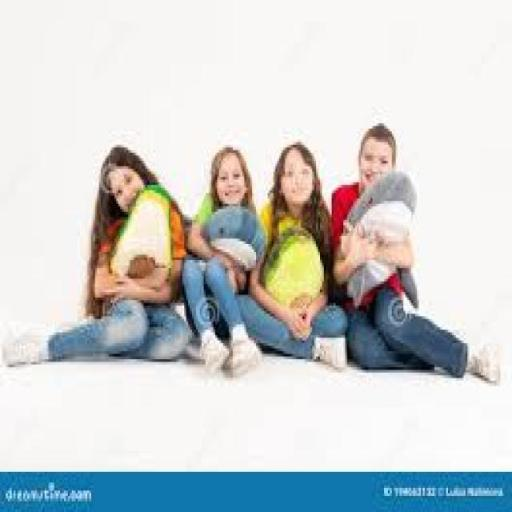baby: (4, 147, 191, 365), (238, 143, 347, 369), (182, 147, 260, 372), (332, 124, 414, 287)
